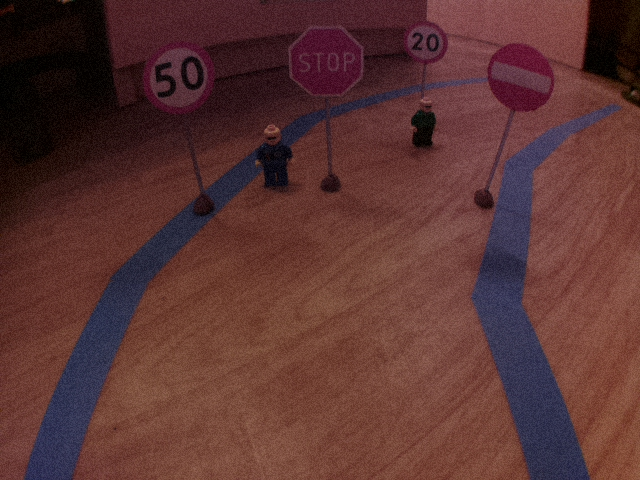LEGO_person: (252, 123, 300, 194), (408, 95, 440, 153)
ogr_20: (401, 20, 450, 64)
ogr_50: (140, 39, 218, 116)
stop: (285, 22, 366, 100)
zakaz: (484, 40, 557, 114)
